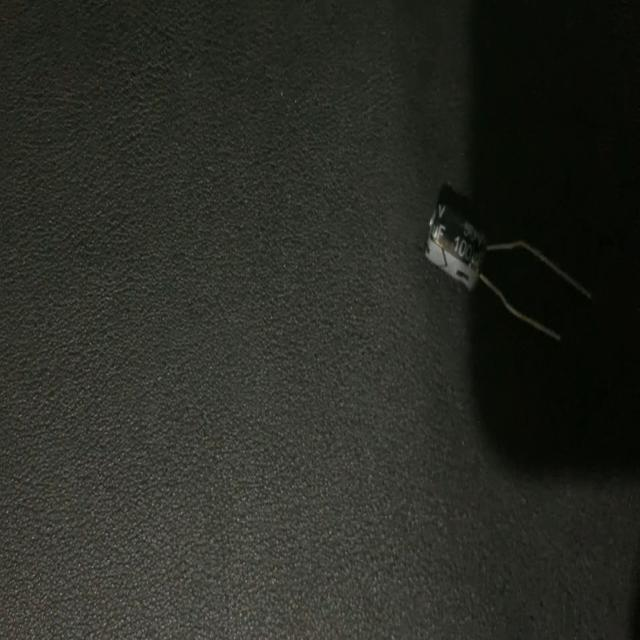capacitor: (422, 184, 594, 351)
